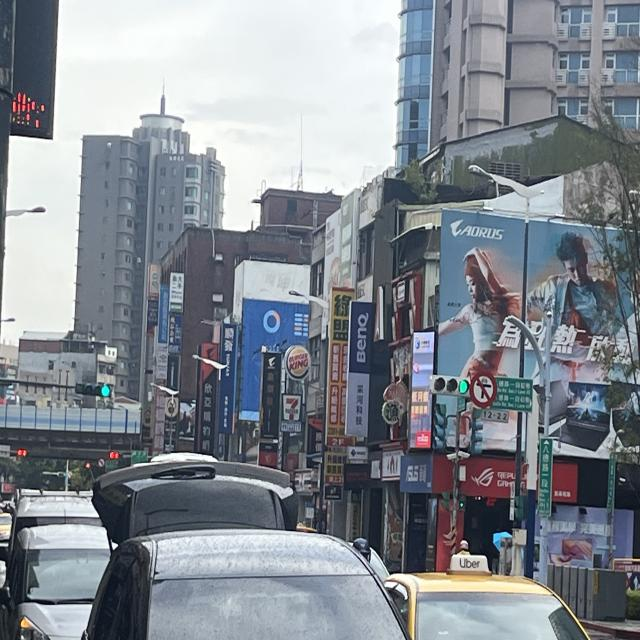green light: (430, 374, 473, 398), (77, 382, 110, 398)
red light: (106, 449, 123, 461), (17, 447, 30, 459)
